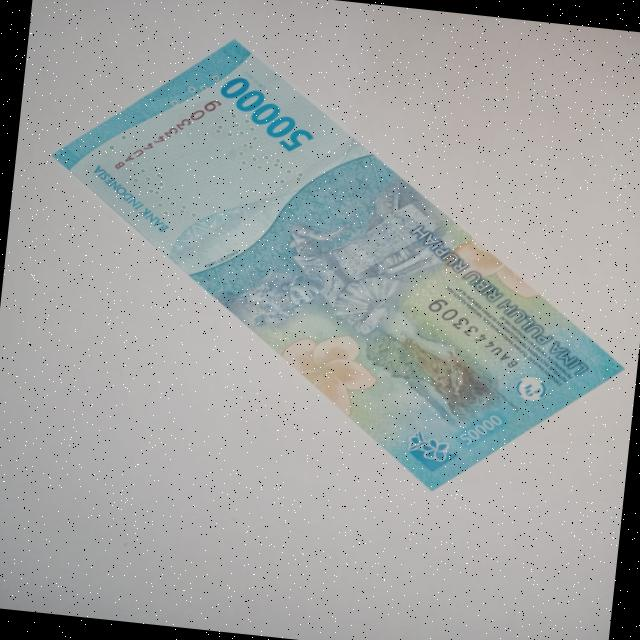50K: (23, 20, 640, 512)
